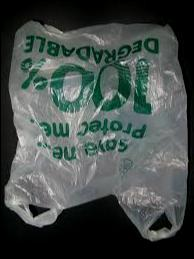Plastic: (1, 16, 188, 241)
